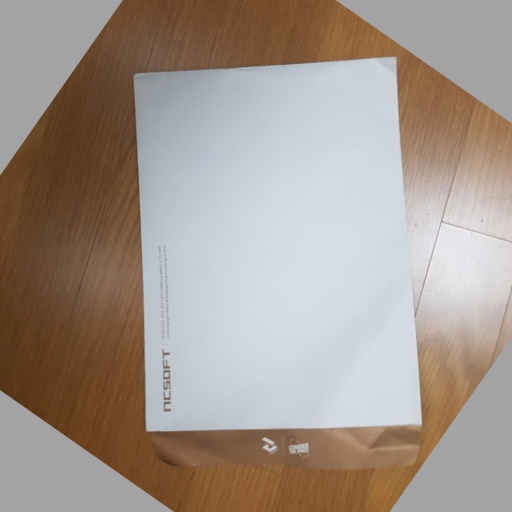Paper_2: (128, 56, 433, 486)
